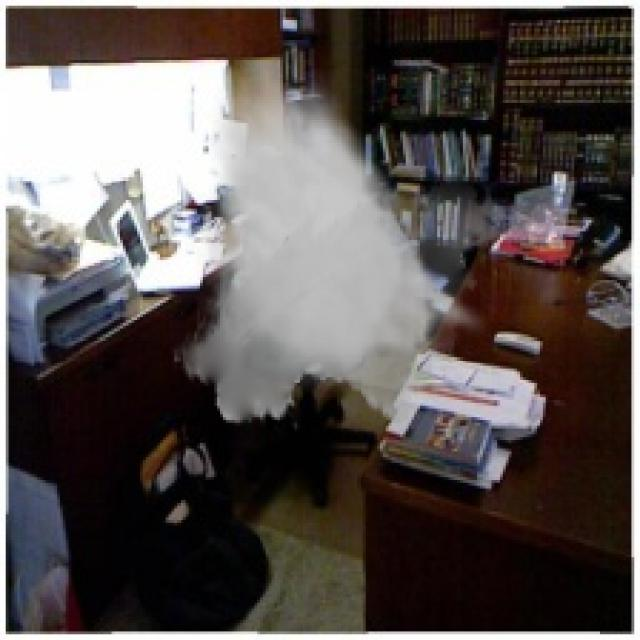smoke: (172, 69, 517, 434)
